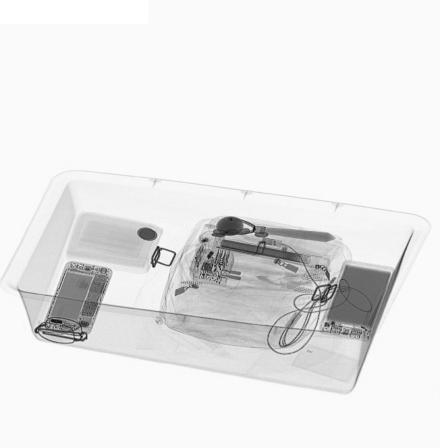Powerbank: (320, 259, 398, 341)
